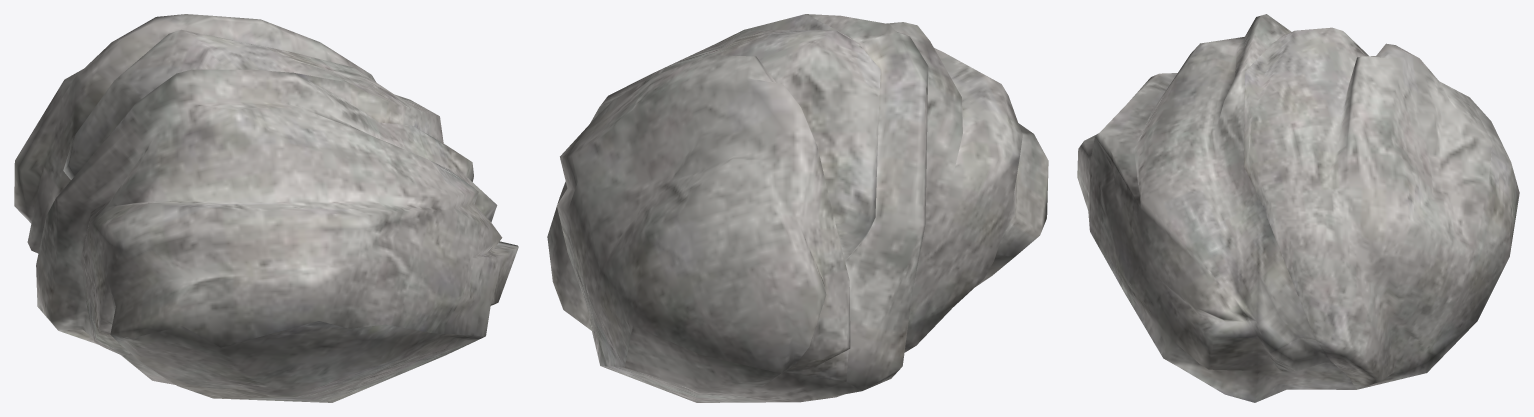
File: stone-ore.glb
The picture shows the model from 3 angles, left to right: view 1: azimuth 30°, elevation 25°; view 2: azimuth 150°, elevation 25°; view 3: azimuth 270°, elevation 25°; orthographic projection. The views are drawn at different scales.
Parts seen in each view (by area): view 1: Stone-Ore; view 2: Stone-Ore; view 3: Stone-Ore.
Part boxes in pixels (x1,y1,x2,y2): Stone-Ore: (14, 14, 518, 402); Stone-Ore: (547, 14, 1048, 402); Stone-Ore: (1077, 14, 1519, 402).
Bounding box in the file's own units: 4.4 × 3.66 × 4.68.
1 material, 1 textured.
